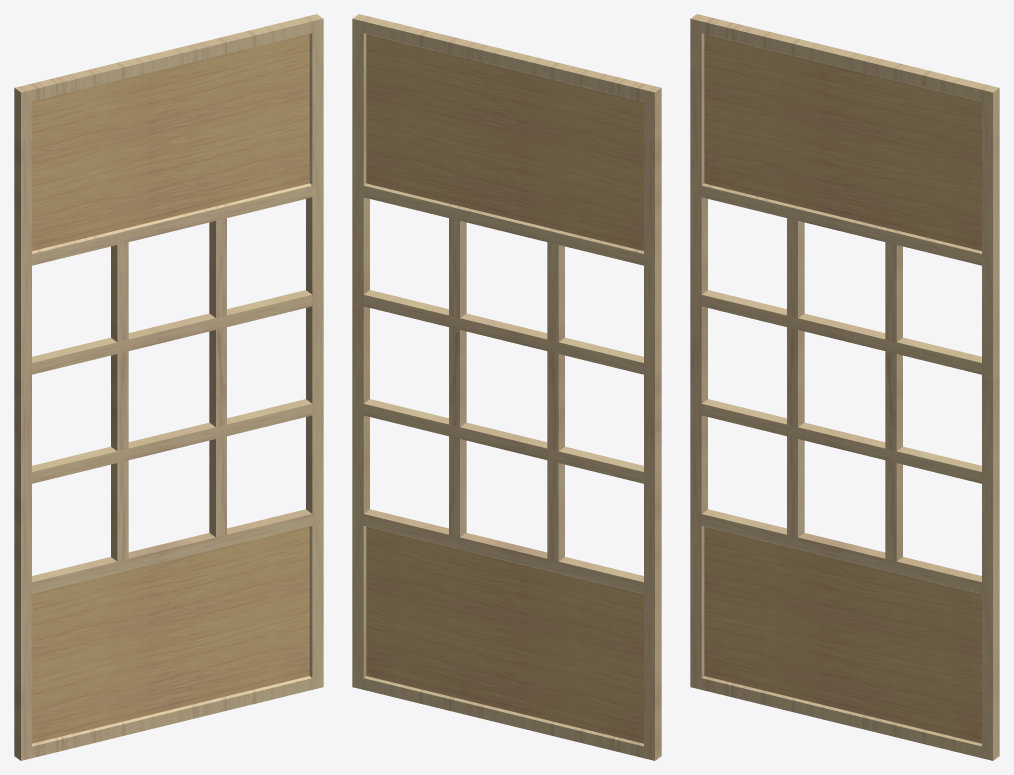
Rendered from P02_syouji.fbx.
3 renders of one model, left to right at view 1: azimuth 30°, elevation 25°; view 2: azimuth 150°, elevation 25°; view 3: azimuth 330°, elevation 25°, orthographic.
Parts seen in each view (by area): view 1: syouji_model; view 2: syouji_model; view 3: syouji_model.
Part boxes in pixels (bbox=[...]): syouji_model: bbox=[14, 14, 323, 760]; syouji_model: bbox=[352, 14, 661, 760]; syouji_model: bbox=[690, 14, 999, 760].
Bounding box in the file's own units: 27 × 57 × 1.
